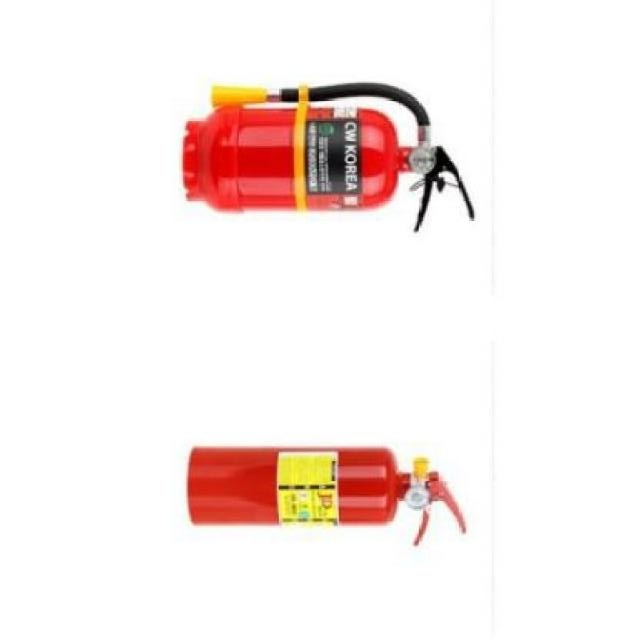fire extinguisher: (182, 81, 475, 233), (187, 444, 467, 548)
